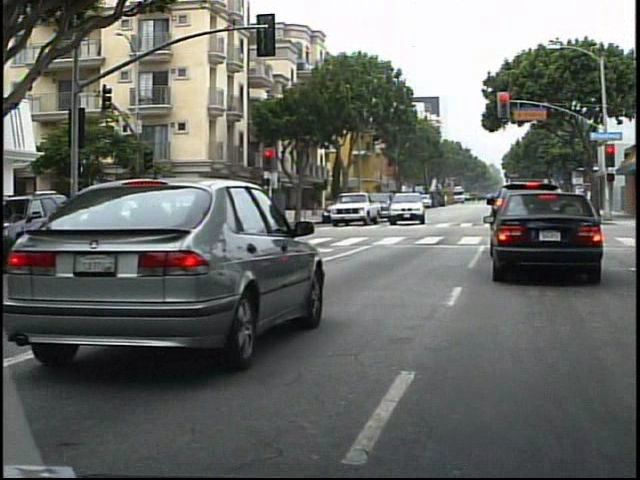person: (155, 191, 173, 236), (175, 193, 193, 234)
